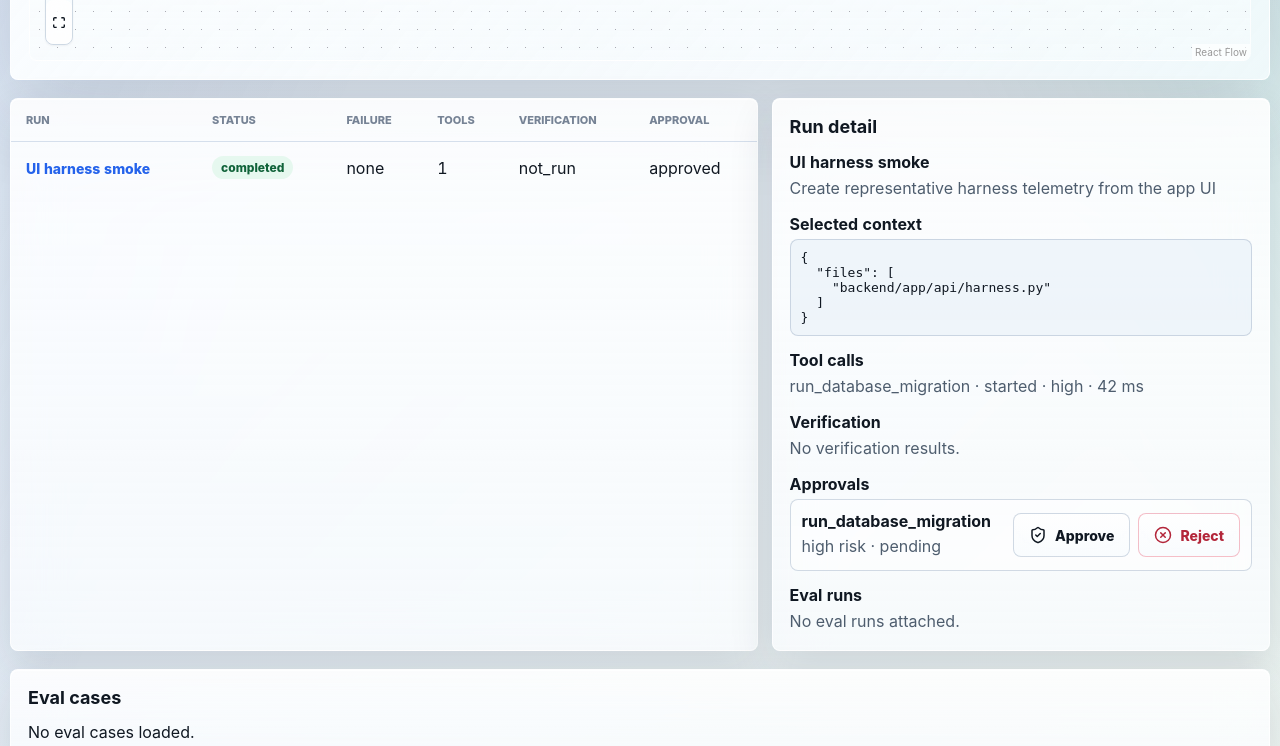
Scenario: HarnessPage › approves a pending high-risk action from the run detail panel
The width and height of the screenshot is (1280, 746).
(page scrolled)
Click the button "Approve". click: (1072, 535)
box: [1013, 513, 1130, 557]
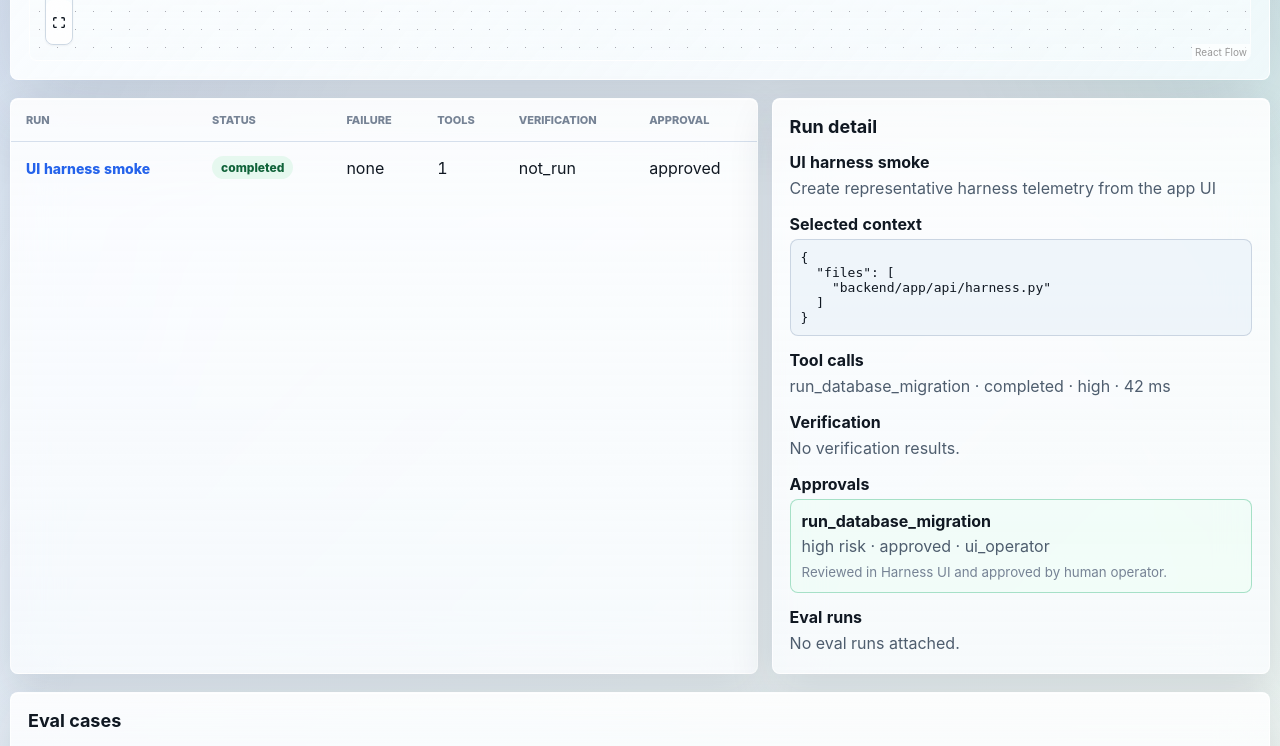
expect the text "high risk · approved · ui_operator" is shown: met, box [802, 536, 1050, 556]
